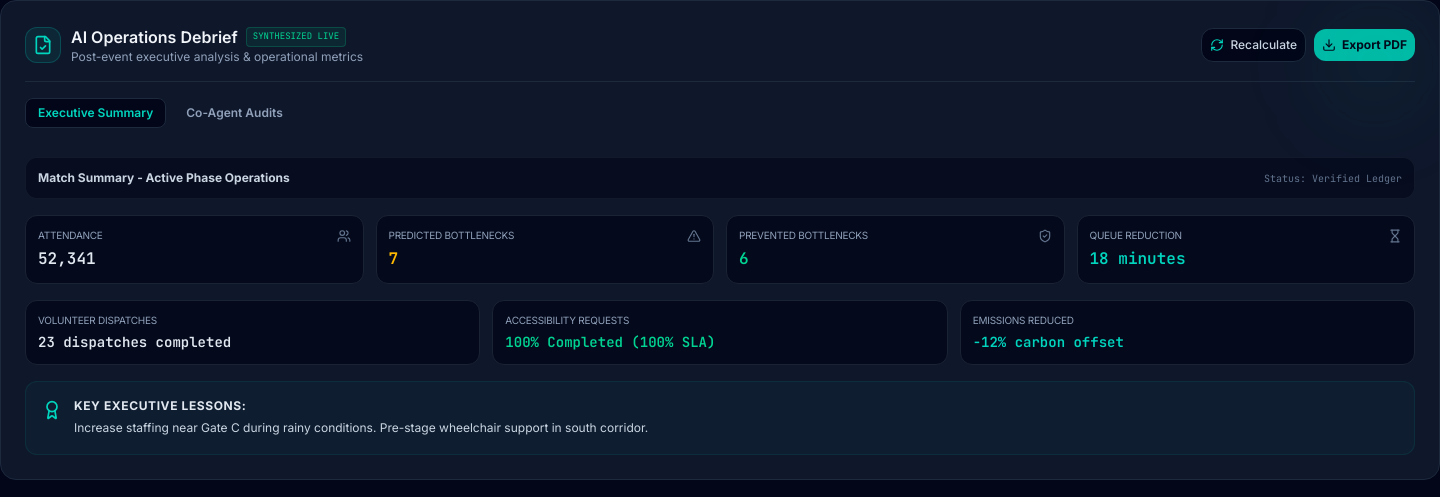
Test case: AIOperationsDebrief › allows toggling between Executive Summary and Co-Agent Audits tabs
The width and height of the screenshot is (1440, 497).
Click the tab "Co-Agent Audits" at (235, 113), box [174,98,295,128]
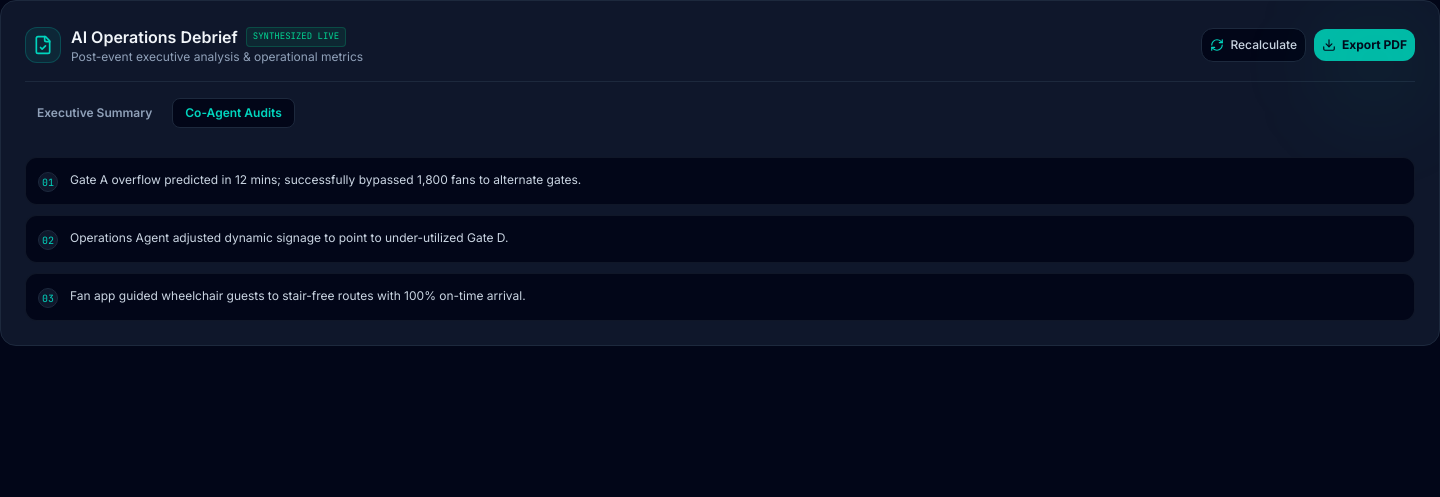
Now the text "Gate A overflow predicted" is shown, box [70,172,581,187]
